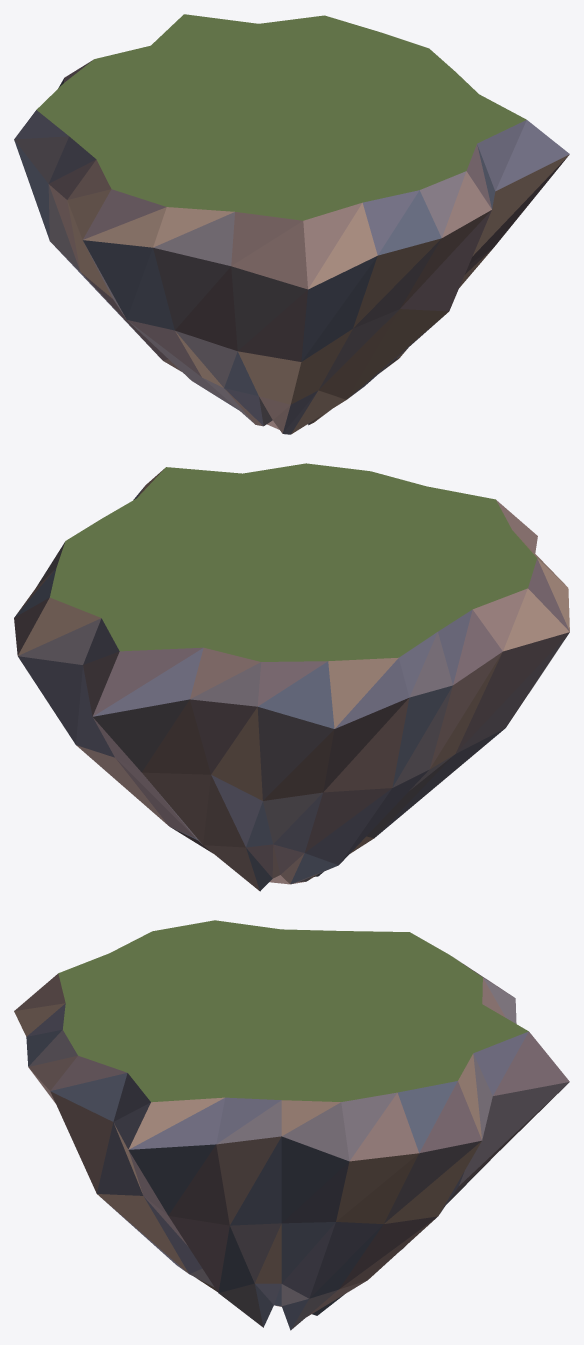
File: island.glb
The picture shows the model from 3 angles, top to bottom: view 1: azimuth 30°, elevation 25°; view 2: azimuth 150°, elevation 25°; view 3: azimuth 270°, elevation 25°; orthographic projection. The views are drawn at different scales.
Parts seen in each view (by area): view 1: IslandMesh; view 2: IslandMesh; view 3: IslandMesh.
Boxes of the visible parts, x1,y1,x2,y2 form: IslandMesh: [14, 14, 569, 434]; IslandMesh: [14, 463, 569, 891]; IslandMesh: [14, 920, 569, 1330].
Bounding box in the file's own units: 47.37 × 31.21 × 52.15.
